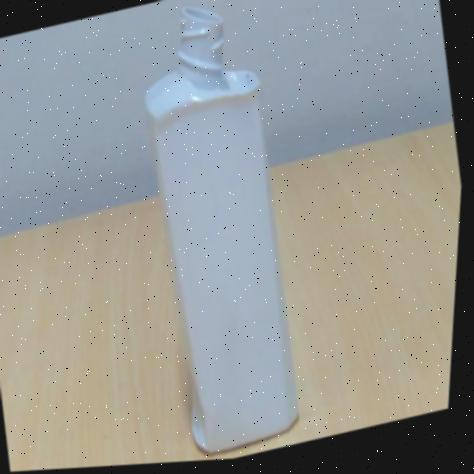bottle: (145, 6, 297, 451)
